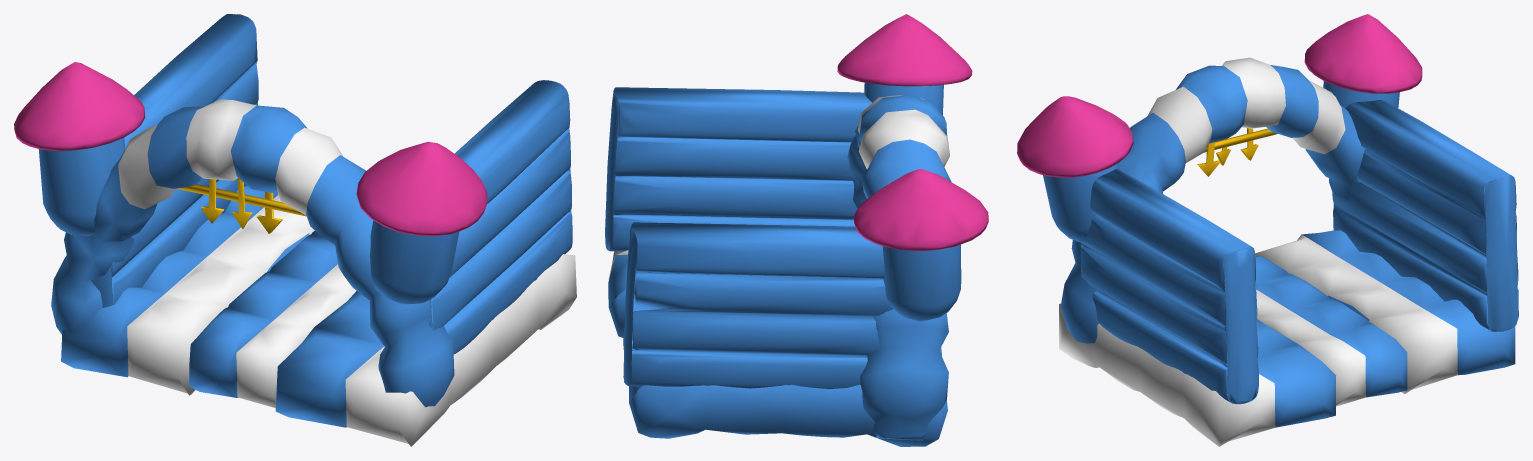
Rendered from castello.fbx.
3 views of the same model, side by side, from view 1: azimuth 30°, elevation 25°; view 2: azimuth 150°, elevation 25°; view 3: azimuth 270°, elevation 25° (orthographic). The views are drawn at different scales.
Visible parts, largest first — view 1: arc.001; view 2: arc.001; view 3: arc.001.
Part boxes in pixels (x1,y1,x2,y2): arc.001: (14, 14, 576, 446); arc.001: (605, 14, 988, 446); arc.001: (1017, 14, 1518, 446).
Bounding box in the file's own units: 1077 × 666 × 1100.
